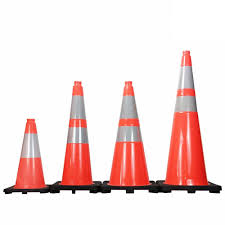cones: (160, 51, 223, 195), (99, 81, 159, 195), (52, 82, 104, 193), (5, 118, 52, 195)
